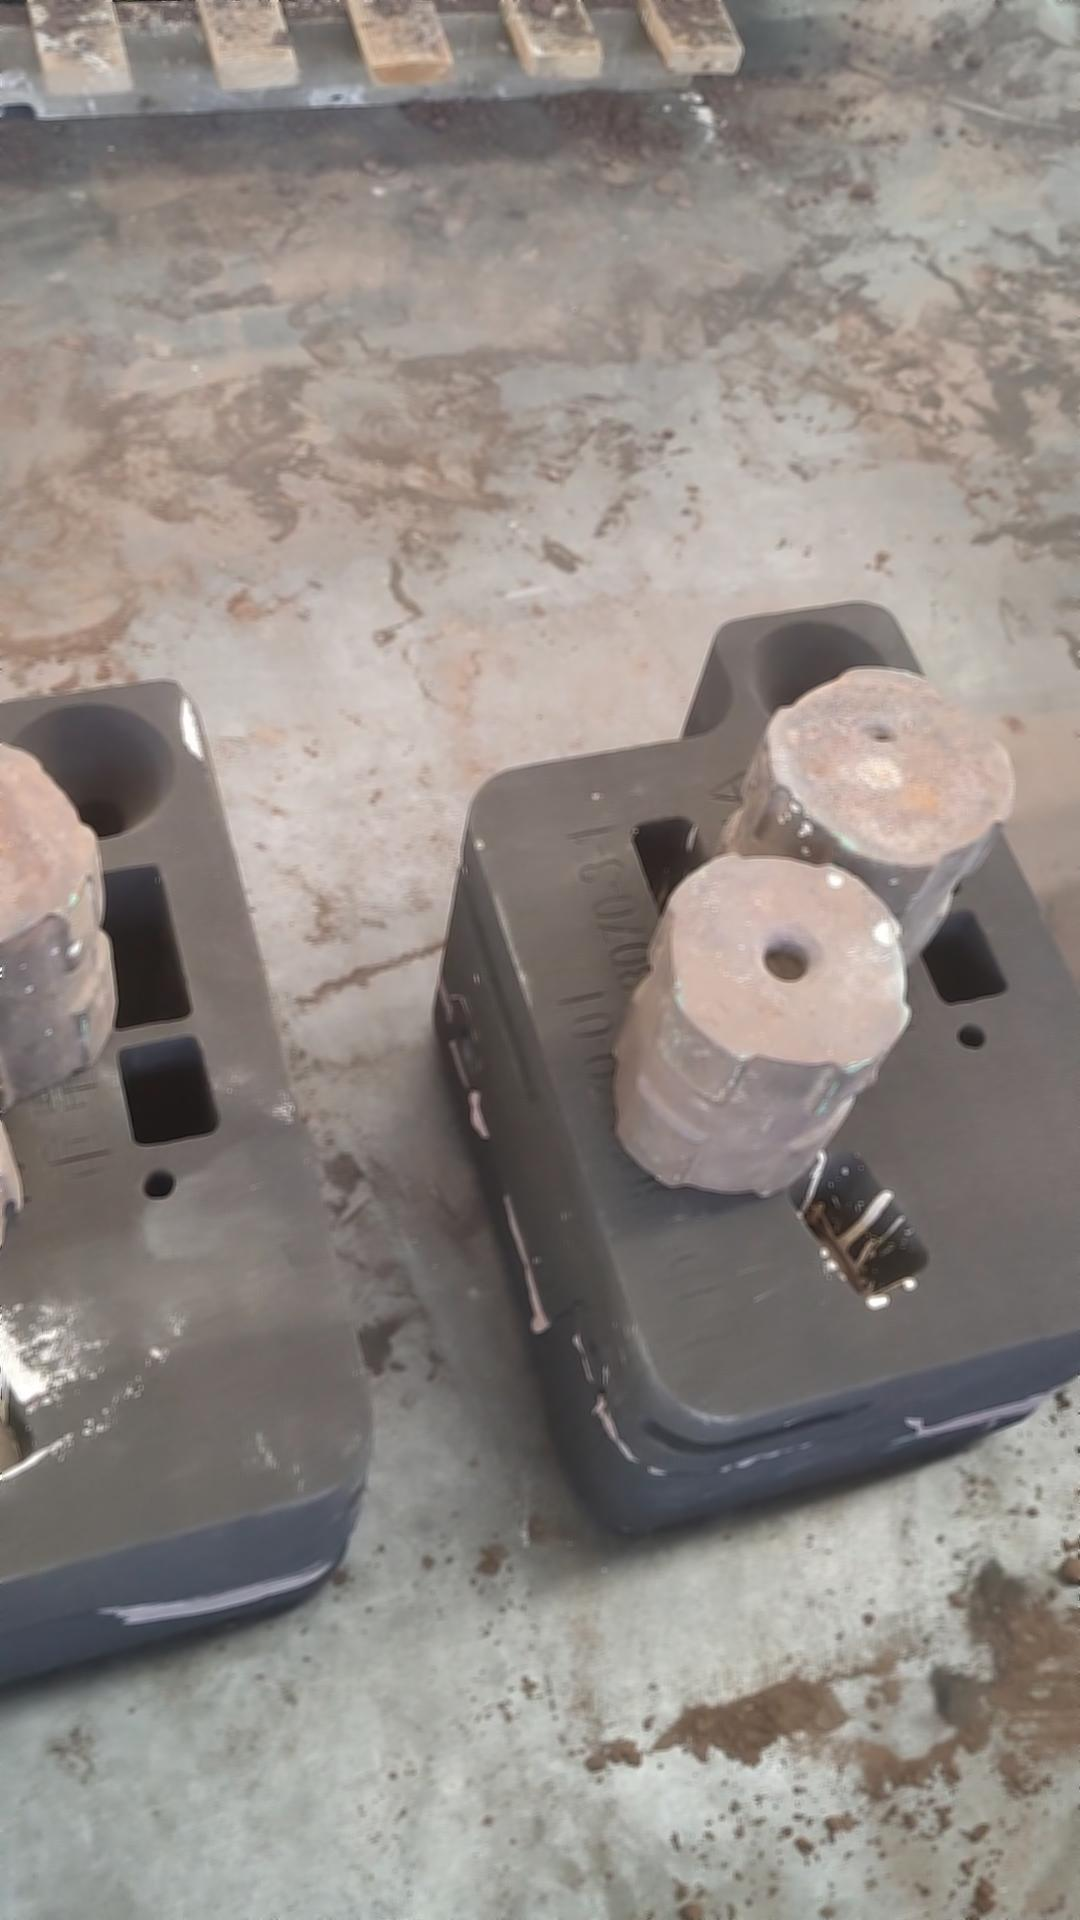pouring hole: (3, 703, 177, 844), (745, 618, 895, 731)
